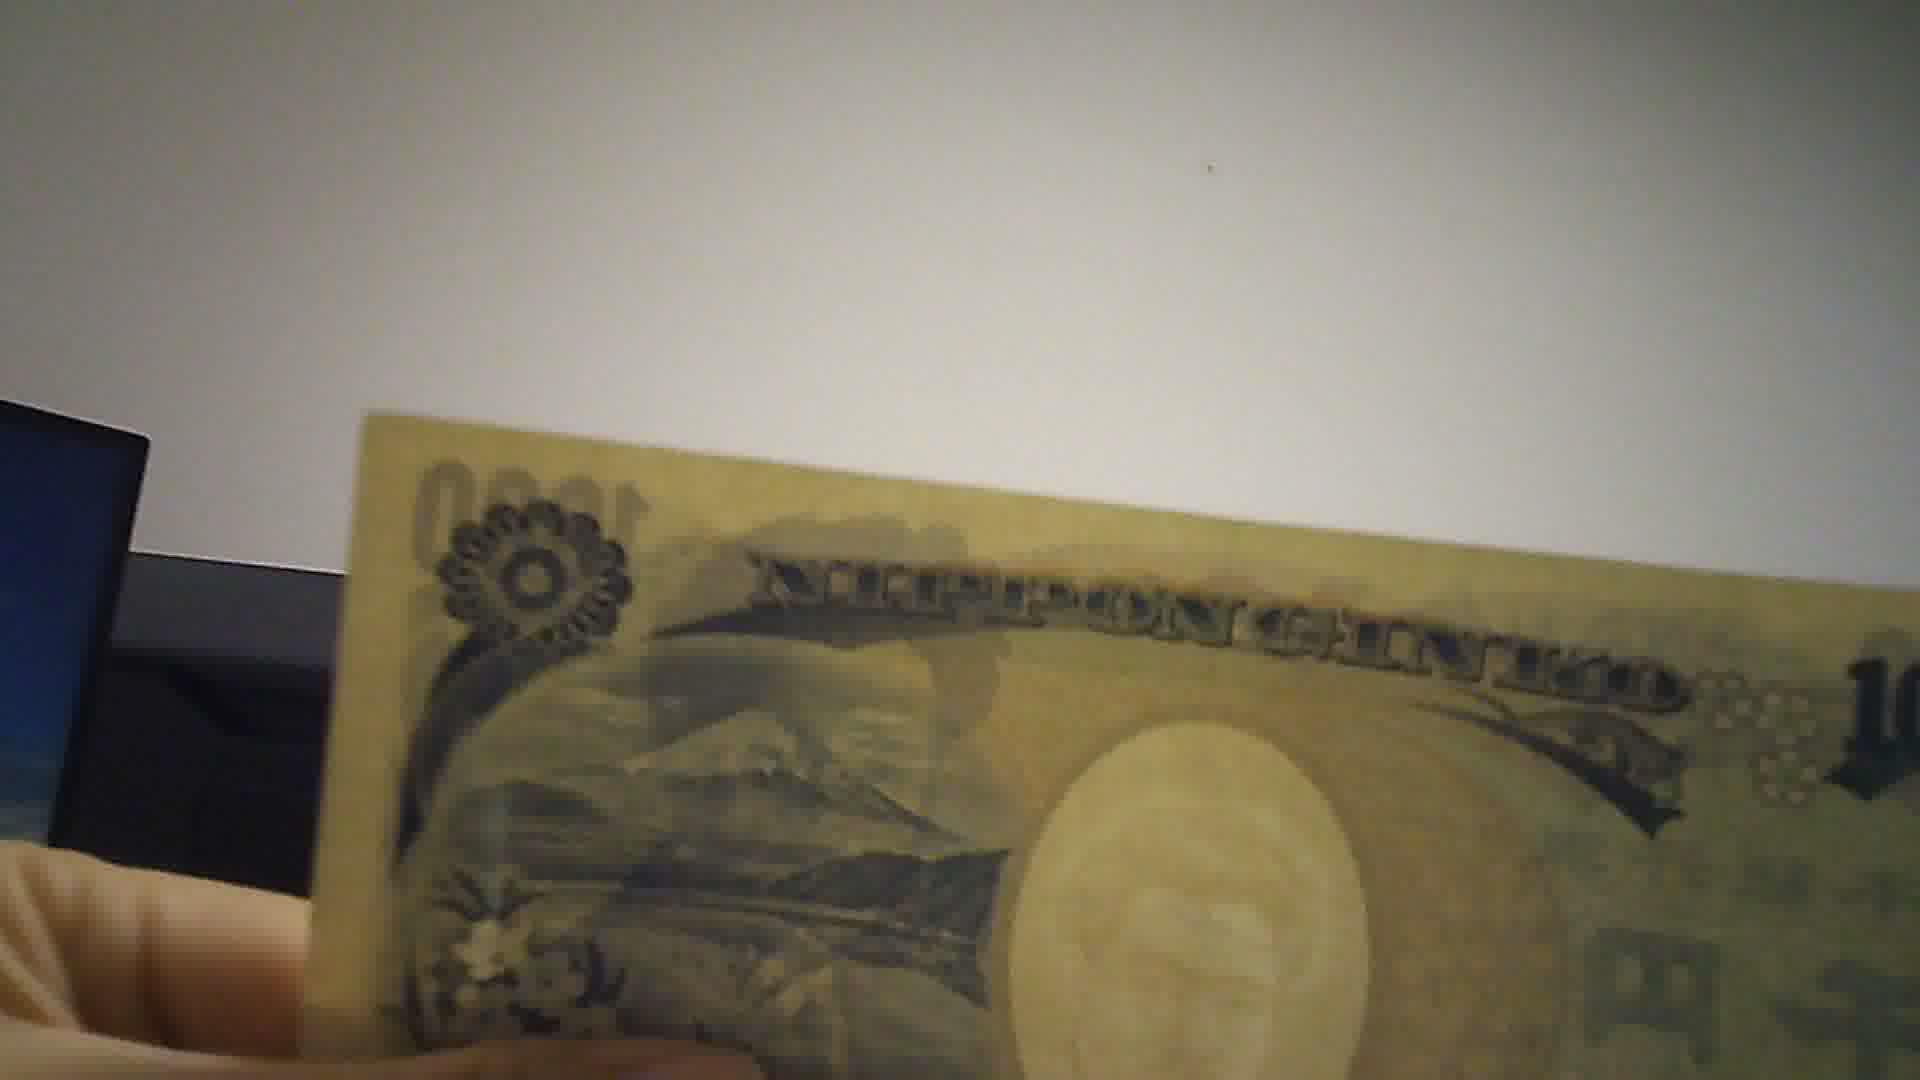1,000 Yen: (297, 401, 1919, 1040)
